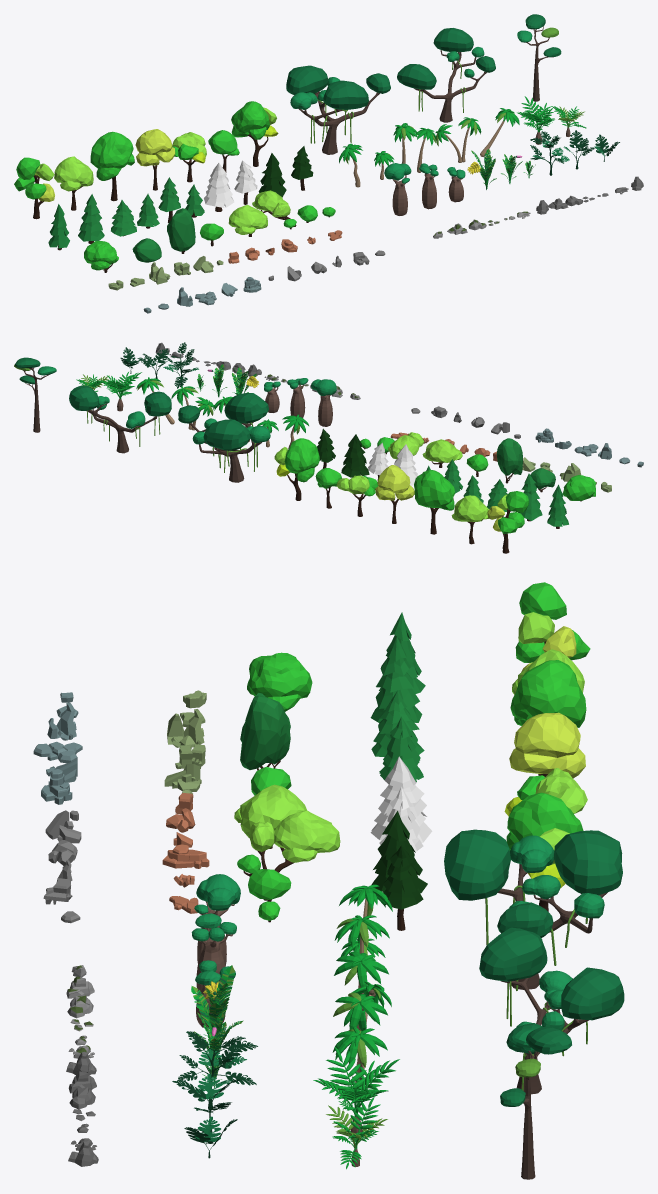
Rendered from LOW_POLY_set.glb.
3 renders of one model, top to bottom at view 1: azimuth 30°, elevation 25°; view 2: azimuth 150°, elevation 25°; view 3: azimuth 270°, elevation 25°, orthographic. The views are drawn at different scales.
Parts seen in each view (by area): view 1: tree_1, tree_2, tree3_Icosphere.005, tree5_Cube.018, tree1_Icosphere.012, tree4_Icosphere.002, tree_3, tree2_Icosphere.004, tree6_Icosphere.009, tree5_Cube.012, conifer7_Cylinder.002, tree_4 (+19 smaller); view 2: tree_1, tree_2, tree5_Cube.018, tree3_Icosphere.005, tree1_Icosphere.012, tree4_Icosphere.002, tree_3, tree2_Icosphere.004, tree6_Icosphere.009, tree_4, tree5_Cube.012, conifer1_Cylinder.003 (+20 smaller); view 3: tree_1, tree_2, tree4_Icosphere.002, Plane.014, tree1_Icosphere.012, tree3_Icosphere.005, tree5_Cube.018, tree_3, tree6_Icosphere.009, Plane.017, palm_7, conifer2_Cylinder.001 (+23 smaller).
Part boxes in pixels (x1=…): tree_1: x1=286, y1=65, x2=390, y2=154; tree_2: x1=397, y1=28, x2=495, y2=122; tree3_Icosphere.005: x1=90, y1=131, x2=134, y2=201; tree5_Cube.018: x1=231, y1=101, x2=278, y2=166; tree1_Icosphere.012: x1=14, y1=157, x2=54, y2=219; tree4_Icosphere.002: x1=135, y1=129, x2=175, y2=190; tree_3: x1=517, y1=14, x2=561, y2=101; tree2_Icosphere.004: x1=54, y1=156, x2=93, y2=210; tree6_Icosphere.009: x1=167, y1=208, x2=195, y2=253; tree5_Cube.012: x1=172, y1=132, x2=206, y2=182; conifer7_Cylinder.002: x1=204, y1=163, x2=234, y2=211; tree_4: x1=384, y1=163, x2=411, y2=215; tree_1: x1=178, y1=393, x2=270, y2=482; tree_2: x1=69, y1=385, x2=171, y2=453; tree5_Cube.018: x1=274, y1=438, x2=319, y2=500; tree3_Icosphere.005: x1=414, y1=470, x2=454, y2=534; tree1_Icosphere.012: x1=487, y1=491, x2=528, y2=553; tree4_Icosphere.002: x1=375, y1=465, x2=414, y2=523; tree_3: x1=14, y1=357, x2=56, y2=432; tree2_Icosphere.004: x1=451, y1=495, x2=489, y2=544; tree6_Icosphere.009: x1=496, y1=438, x2=522, y2=483; tree_4: x1=311, y1=379, x2=336, y2=426; tree5_Cube.012: x1=336, y1=475, x2=378, y2=516; conifer1_Cylinder.003: x1=341, y1=434, x2=369, y2=477; tree_1: x1=444, y1=829, x2=622, y2=990; tree_2: x1=479, y1=927, x2=624, y2=1094; tree4_Icosphere.002: x1=509, y1=712, x2=585, y2=778; Plane.014: x1=237, y1=810, x2=340, y2=876; tree1_Icosphere.012: x1=515, y1=582, x2=590, y2=672; tree3_Icosphere.005: x1=510, y1=660, x2=586, y2=776; tree5_Cube.018: x1=506, y1=792, x2=583, y2=911; tree_3: x1=500, y1=1026, x2=571, y2=1179; tree6_Icosphere.009: x1=240, y1=693, x2=290, y2=770; Plane.017: x1=247, y1=652, x2=312, y2=711; palm_7: x1=313, y1=1047, x2=399, y2=1140; conifer2_Cylinder.001: x1=370, y1=637, x2=422, y2=722.
Size of the model in its own units: 181 by 25.42 by 88.75.
